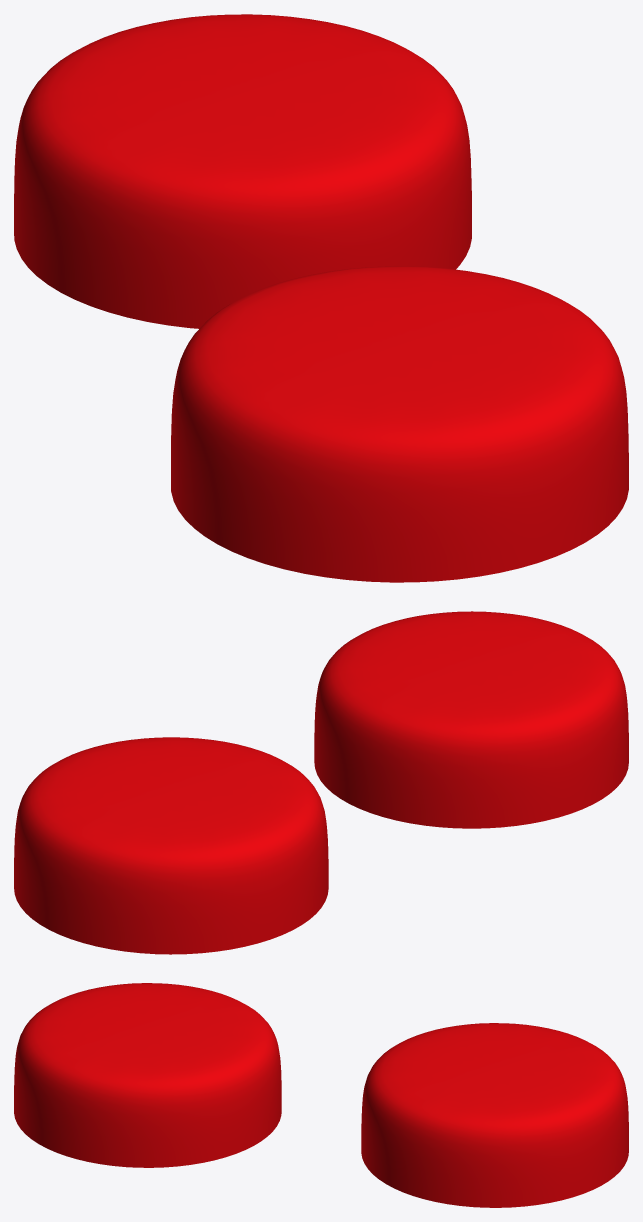
File: retro-game-console-controller-buttons.fbx
The picture shows the model from 3 angles, top to bottom: view 1: azimuth 30°, elevation 25°; view 2: azimuth 150°, elevation 25°; view 3: azimuth 270°, elevation 25°; orthographic projection. The views are drawn at different scales.
Visible parts, largest first — view 1: Circle.001; view 2: Circle.001; view 3: Circle.001.
Part boxes in pixels (<box>): Circle.001: <box>14,14,628,582</box>; Circle.001: <box>14,611,628,954</box>; Circle.001: <box>14,983,628,1207</box>.
Bounding box in the file's own units: 24.75 × 6.33 × 42.
